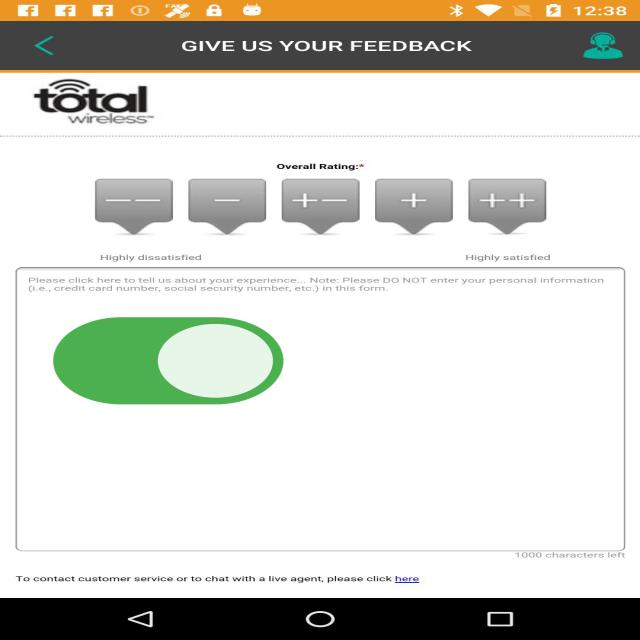social proof: (43, 284, 294, 444)
